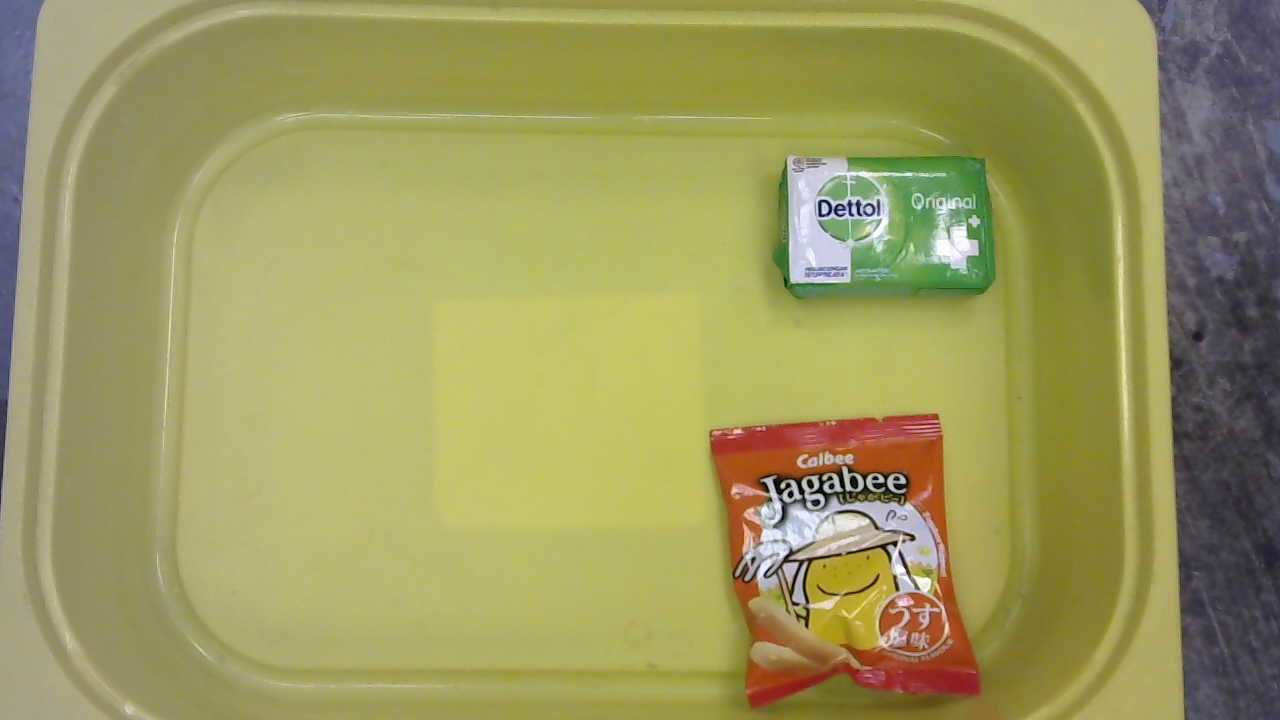Dettol: (769, 149, 1002, 305)
JagabeeFarmer: (699, 415, 991, 715)
